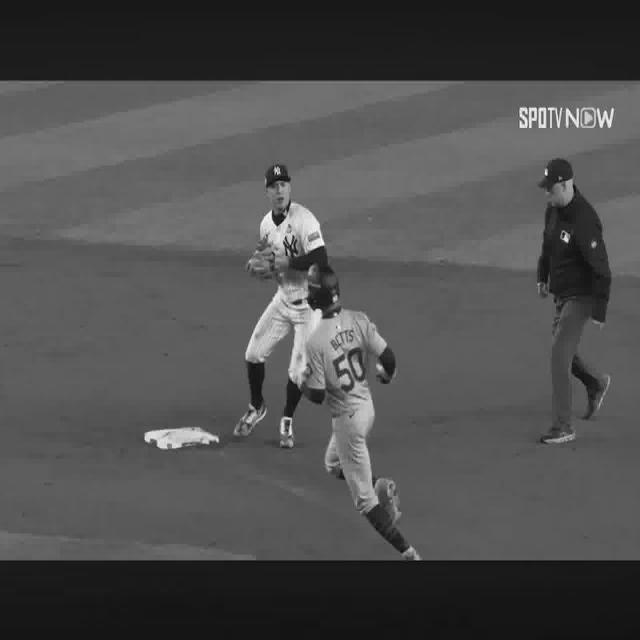base: (144, 427, 219, 450)
baseball_glove: (246, 243, 280, 278)
shoe: (375, 477, 401, 525), (584, 375, 611, 420), (234, 405, 268, 437), (541, 428, 575, 443), (280, 418, 295, 448)
